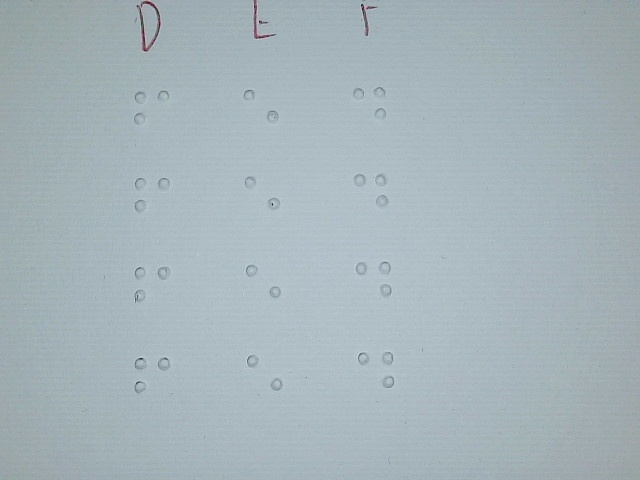D: (351, 76, 388, 139), (352, 161, 389, 224), (355, 250, 392, 313), (357, 340, 394, 403)
E: (243, 78, 280, 141), (244, 165, 281, 228), (245, 252, 282, 315), (246, 343, 283, 406)
F: (133, 79, 170, 142), (134, 166, 171, 229), (134, 254, 171, 317), (134, 345, 171, 408)
